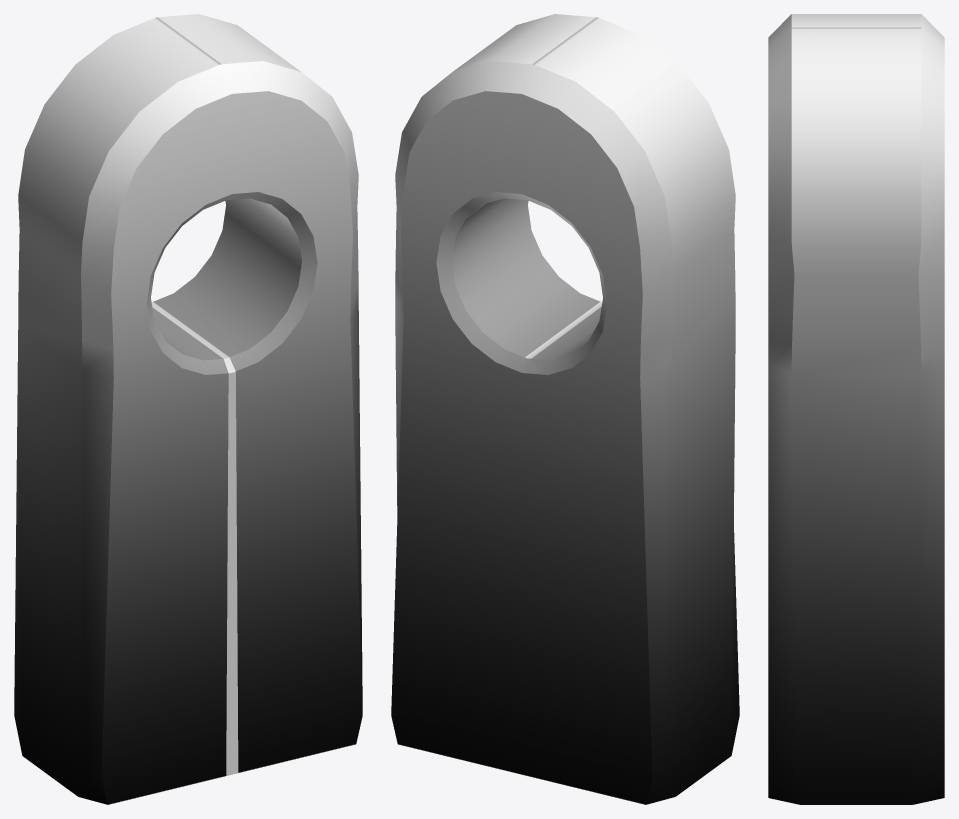
File: BG_curvetop_hole_ligned.fbx
3 views of the same model, side by side, from view 1: azimuth 30°, elevation 25°; view 2: azimuth 150°, elevation 25°; view 3: azimuth 270°, elevation 25° (orthographic).
Parts seen in each view (by area): view 1: BG_curvetop_hole_ligned; view 2: BG_curvetop_hole_ligned; view 3: BG_curvetop_hole_ligned.
Part boxes in pixels (x1,y1,x2,y2): BG_curvetop_hole_ligned: [14, 14, 362, 804]; BG_curvetop_hole_ligned: [391, 14, 739, 804]; BG_curvetop_hole_ligned: [768, 14, 944, 804].
Size of the model in its own units: 2048 by 4970 by 1120.
